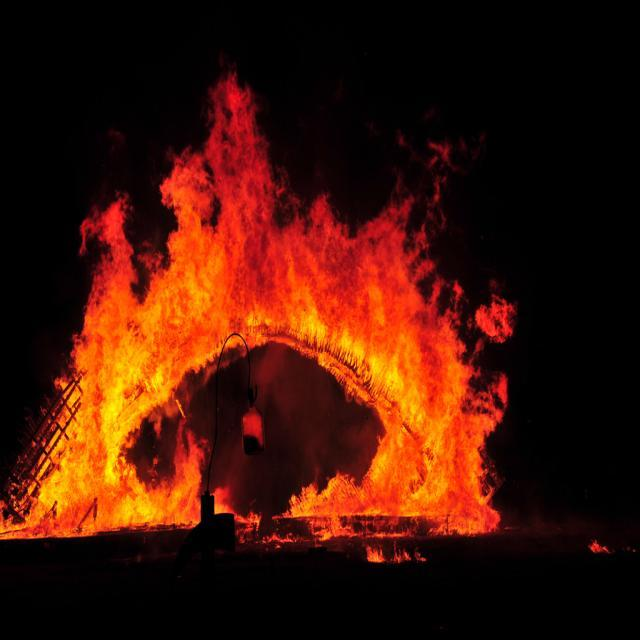Fire: (151, 226, 418, 326), (46, 345, 193, 505), (370, 353, 496, 514)
